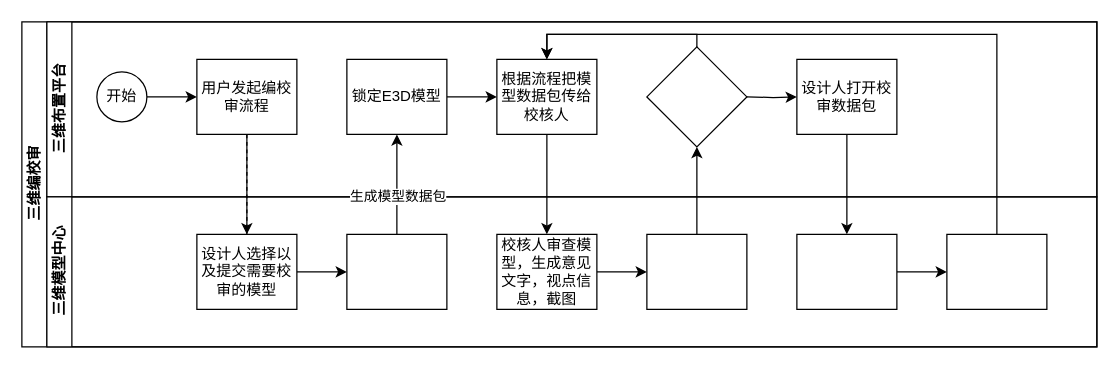
Image size: 1119x369. Some labels were removed from this diagram. The centre of each missing label's shape, as x and y in pixels:
完成意见回复点击提交，同步更新模型数据: [996,271]
将校核人产生的数据打包形成校审数据包: [696,271]
平台锁定设计人提交模型不允许修改操作: [396,271]
查看校核人的云线批注，文字批注: [846,271]
根据流程进入下一级校核或者返回设计人修改: [696,96]
